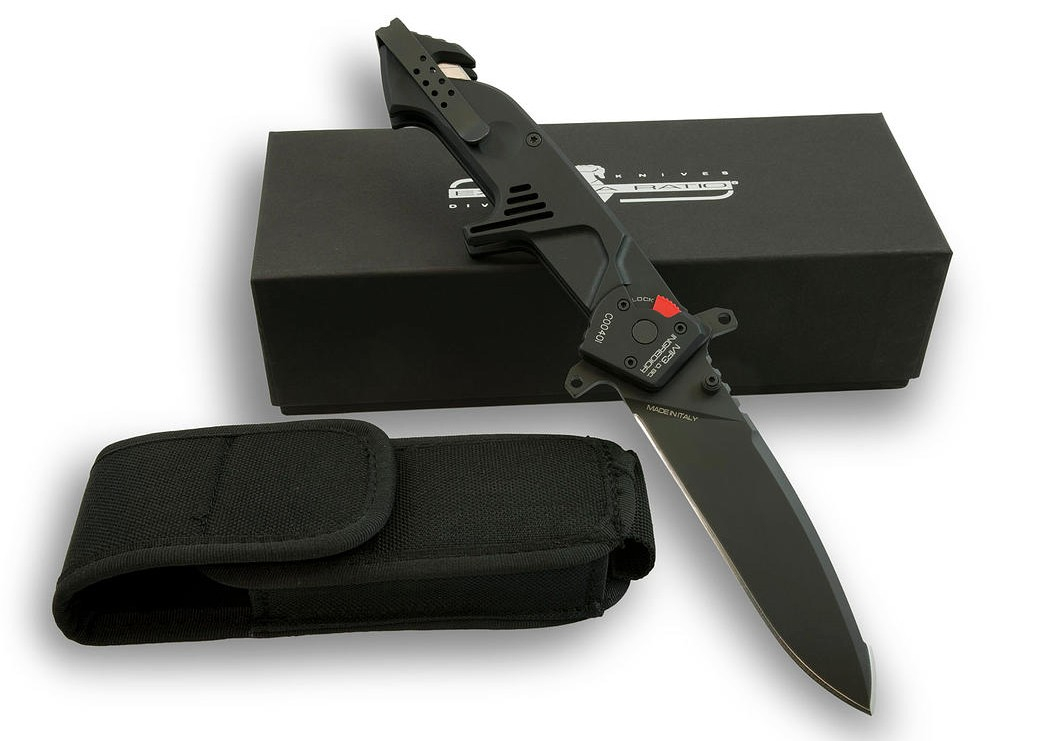knife: (610, 327, 888, 727)
